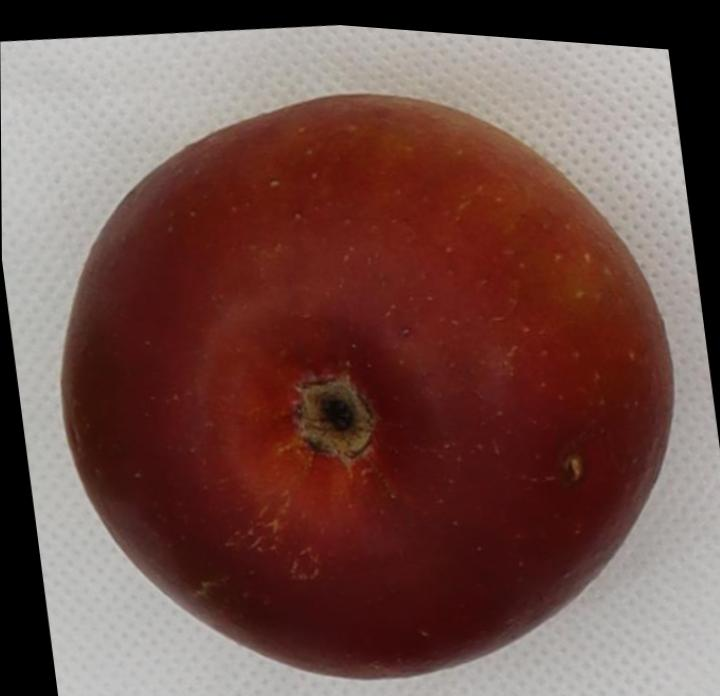apple: (62, 96, 671, 679)
surface_damage: (562, 454, 583, 483)
